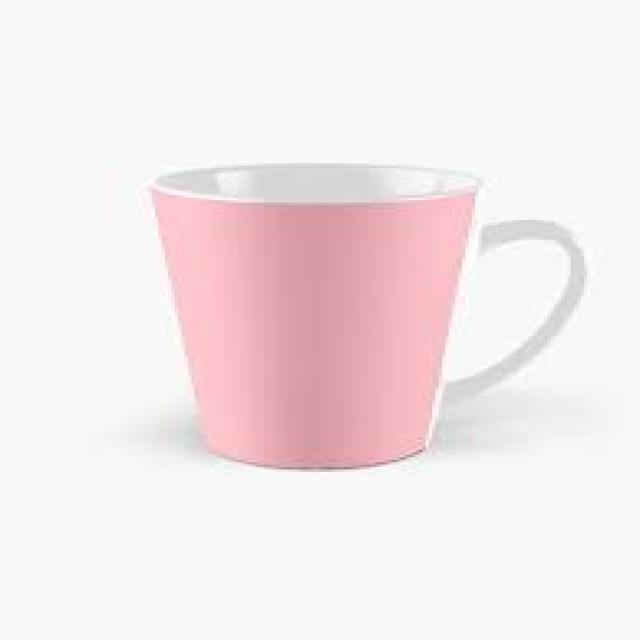taza: (154, 160, 589, 472)
